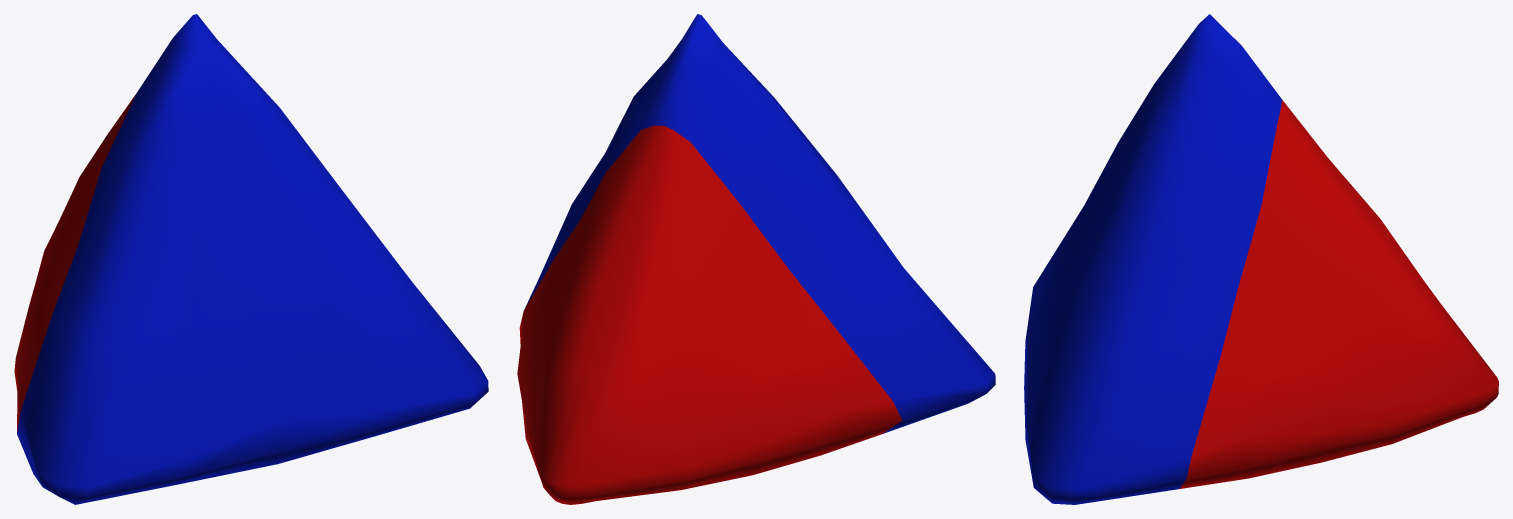
The model's file is Airball-SmallDorito.fbx.
3 renders of one model, left to right at view 1: azimuth 30°, elevation 25°; view 2: azimuth 150°, elevation 25°; view 3: azimuth 270°, elevation 25°, orthographic.
Parts seen in each view (by area): view 1: Small-Dorito; view 2: Small-Dorito; view 3: Small-Dorito.
Boxes of the visible parts, bbox=[...] form: Small-Dorito: bbox=[14, 14, 488, 504]; Small-Dorito: bbox=[517, 14, 995, 504]; Small-Dorito: bbox=[1024, 14, 1498, 504].
Size of the model in its own units: 231 by 194 by 211.
